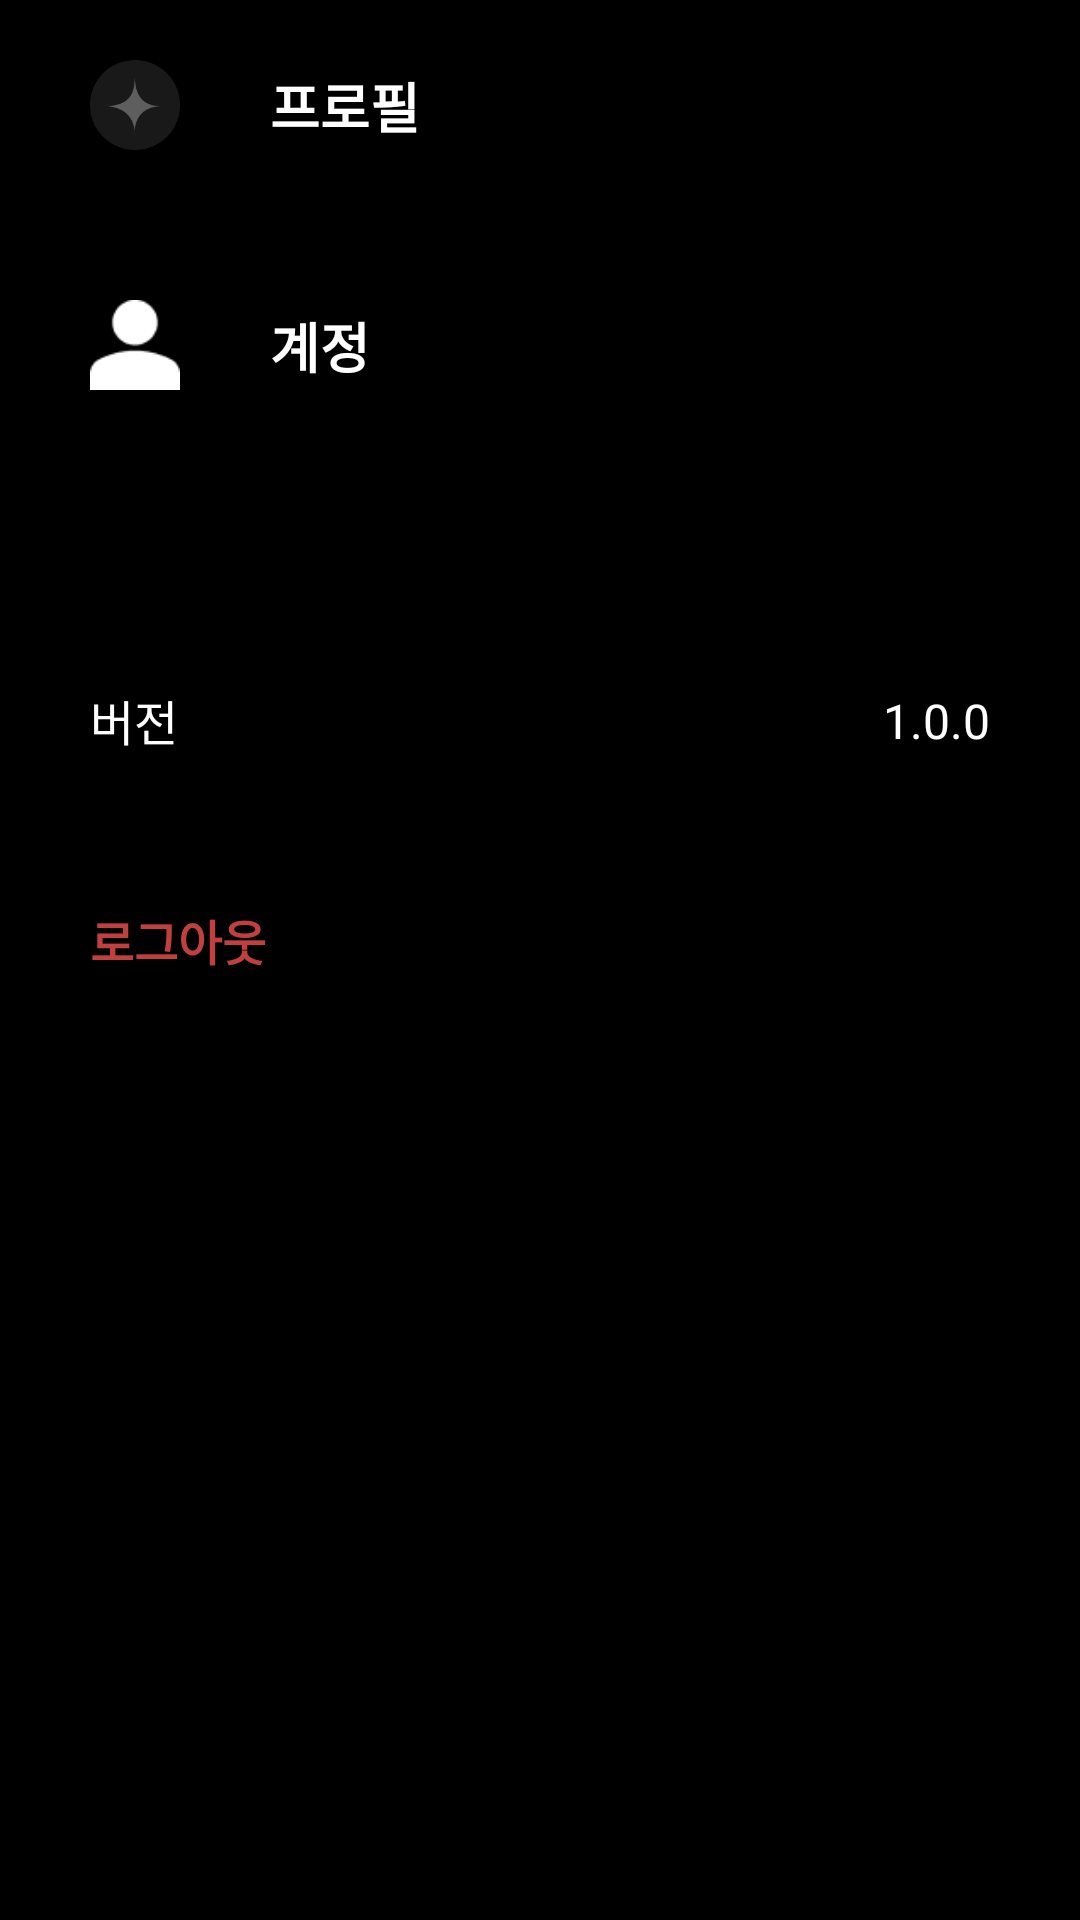

Where to tap for icons on this 1080 x 1920 app screen, as (x=x, y=y):
settings account: (x=135, y=345)
